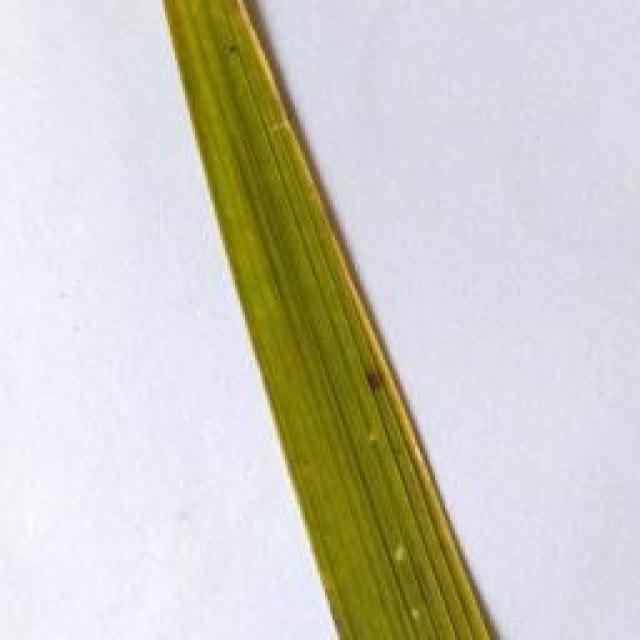Bacterial_Blight: (154, 0, 508, 640)
Brown_Spot: (362, 358, 404, 406)
